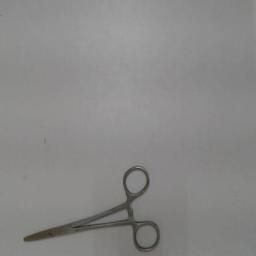Mayo Needle Holder: (16, 160, 164, 254)
